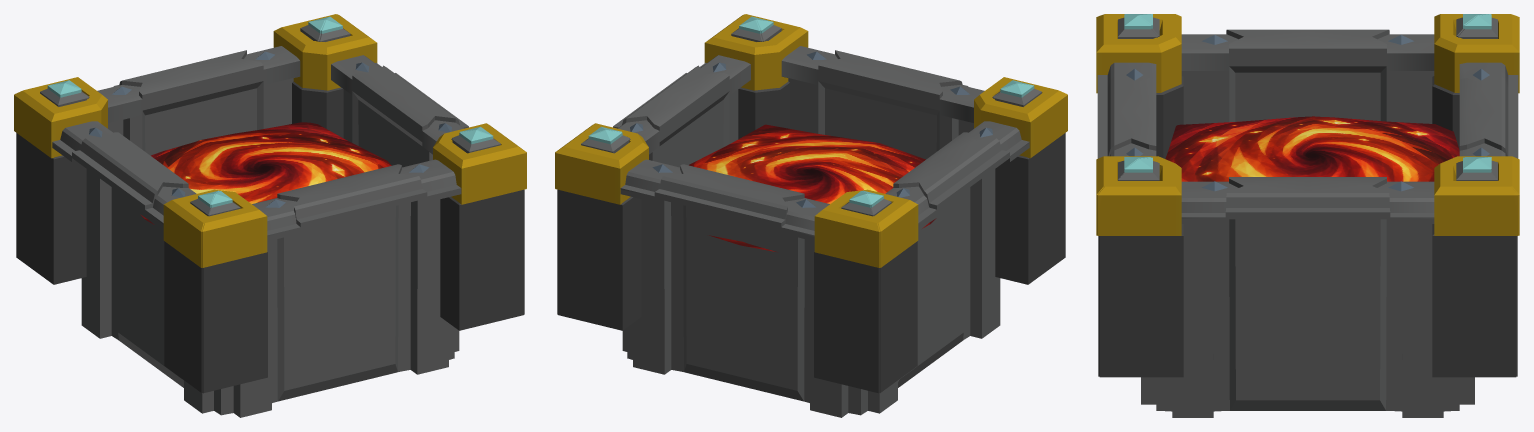
The model's file is trashcan.fbx.
3 views of the same model, side by side, from view 1: azimuth 30°, elevation 25°; view 2: azimuth 150°, elevation 25°; view 3: azimuth 270°, elevation 25° (orthographic). The views are drawn at different scales.
Visible parts, largest first — view 1: Trashcan; view 2: Trashcan; view 3: Trashcan.
Boxes of the visible parts, box(x1,y1,x2,y2) form: Trashcan: box(14, 14, 526, 417); Trashcan: box(555, 14, 1067, 417); Trashcan: box(1096, 14, 1519, 417).
Bounding box in the file's own units: 201 × 201 × 136.
2 materials, 2 textured.
